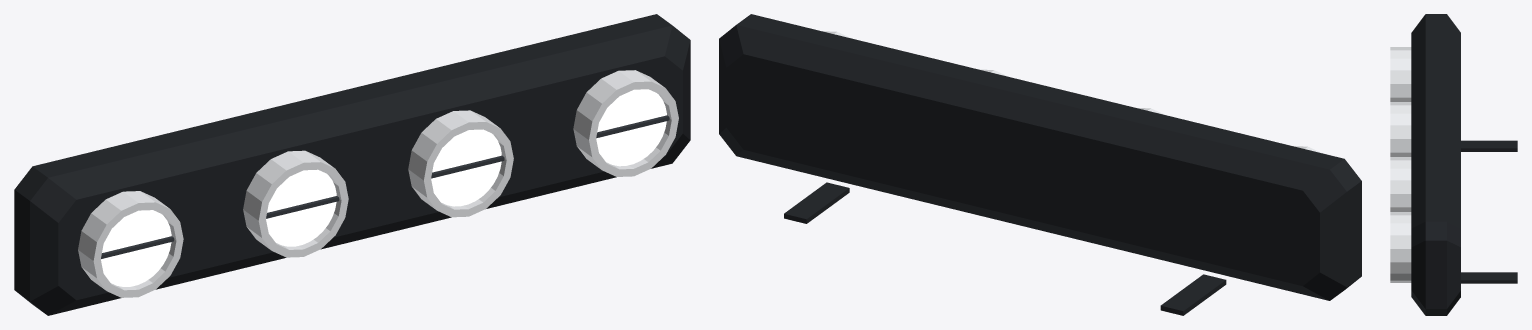
File: strada_evo_rally_lights.glb
The picture shows the model from 3 angles, left to right: view 1: azimuth 30°, elevation 25°; view 2: azimuth 150°, elevation 25°; view 3: azimuth 270°, elevation 25°; orthographic projection. The views are drawn at different scales.
Visible parts, largest first — view 1: model; view 2: model; view 3: model.
Part boxes in pixels (x1,y1,x2,y2): model: (14, 14, 690, 315); model: (719, 14, 1361, 315); model: (1390, 14, 1517, 315).
Bounding box in the file's own units: 1.1 × 0.224 × 0.27.
Materials: 3 (1 with a texture image).
